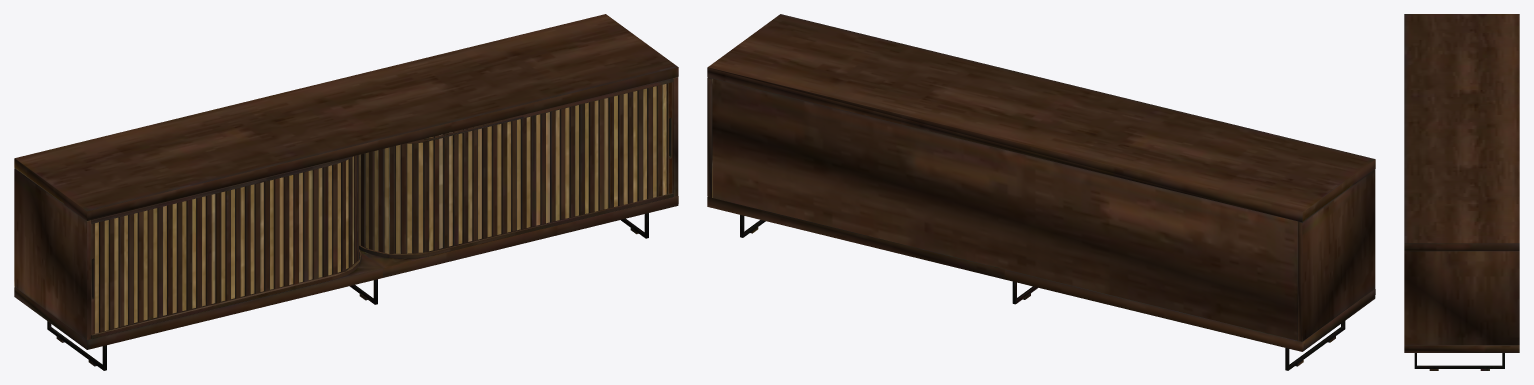
File: sideboard_slat.glb
The picture shows the model from 3 angles, left to right: view 1: azimuth 30°, elevation 25°; view 2: azimuth 150°, elevation 25°; view 3: azimuth 270°, elevation 25°; orthographic projection. The views are drawn at different scales.
Parts seen in each view (by area): view 1: modern_wooden_cabinet_body, modern_wooden_cabinet_door_l; view 2: modern_wooden_cabinet_body; view 3: modern_wooden_cabinet_body.
Part boxes in pixels (left/top/right/bottom): modern_wooden_cabinet_body: left=14, top=14, right=678, bottom=370; modern_wooden_cabinet_door_l: left=91, top=82, right=672, bottom=334; modern_wooden_cabinet_body: left=707, top=14, right=1375, bottom=370; modern_wooden_cabinet_body: left=1404, top=14, right=1519, bottom=370.
Bounding box in the file's own units: 2.44 × 0.6801 × 0.5201.
1 material, 1 textured.
